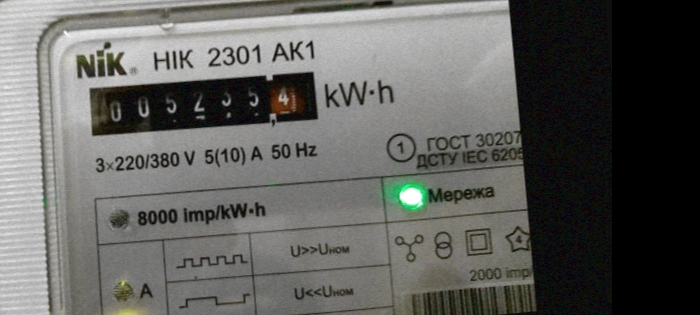0: (105, 98, 124, 125), (134, 93, 150, 120)
2: (189, 87, 205, 114)
3: (216, 83, 233, 109)
4: (273, 82, 291, 109)
5: (243, 81, 261, 110), (161, 90, 178, 117)
screen: (76, 58, 330, 150)
